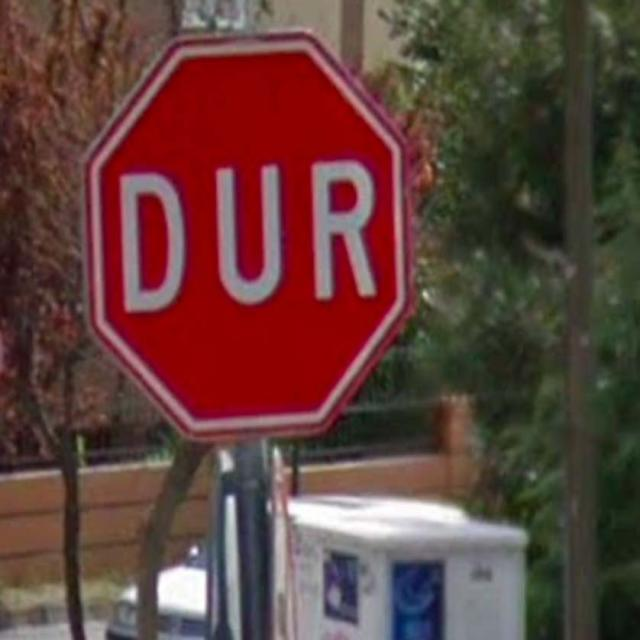dur: (81, 30, 412, 451)
